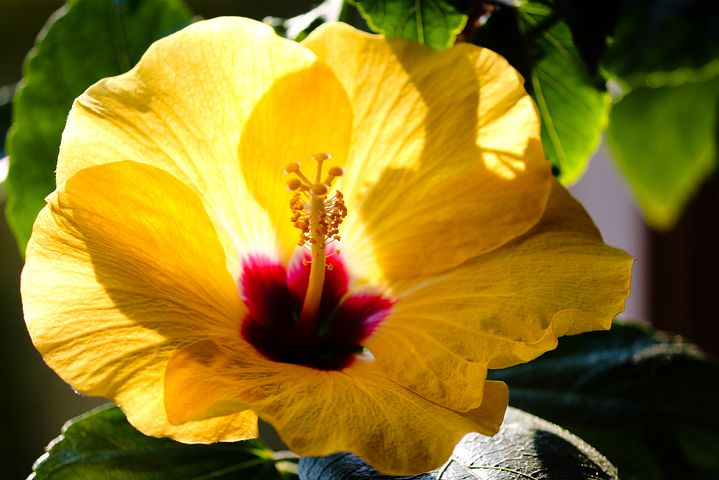Hibiscus: (1, 8, 620, 462)
